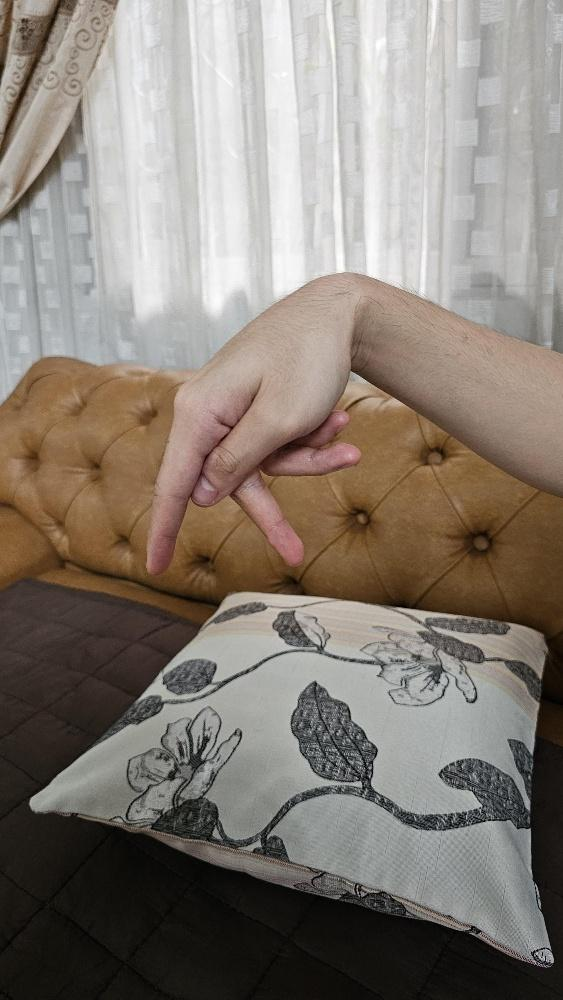p: (143, 269, 363, 576)
